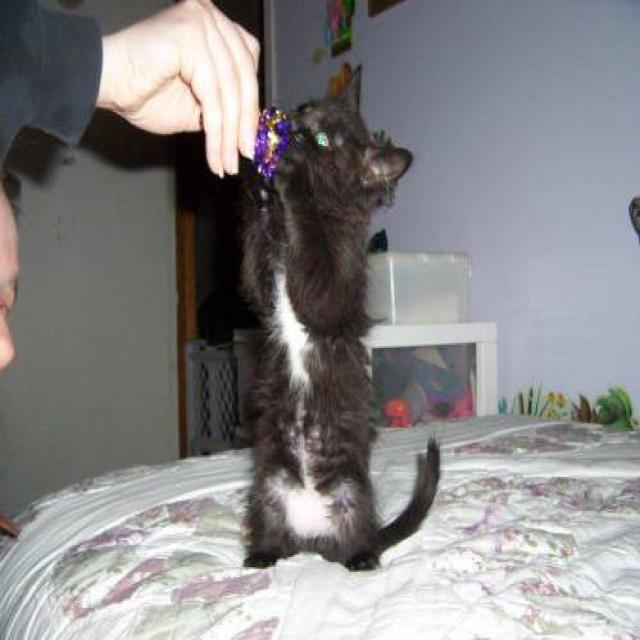cat: (235, 61, 441, 572)
